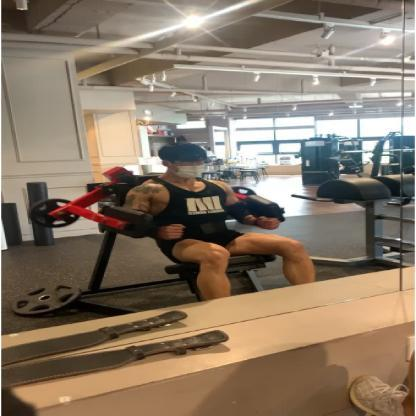lateral raises machine: (26, 167, 286, 291)
